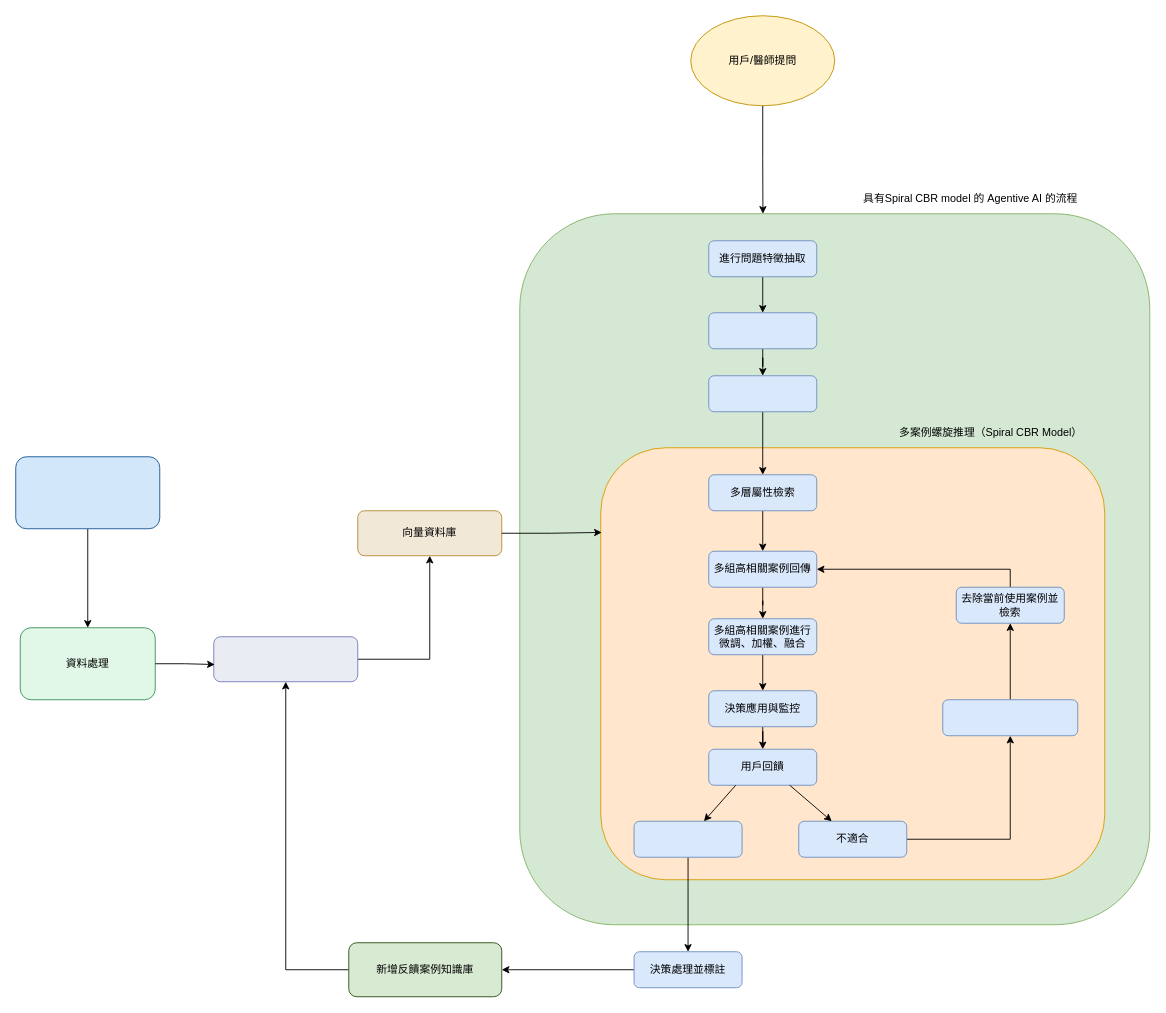
Some shapes in this 1166 by 1013 pixel diagram are drawn without their labels. The box of each missing label's shape, as (x1, y1, x2, y2) in pixels:
data: (15, 456, 160, 529)
Embedding: (213, 636, 358, 682)
任務拆解與參數設定: (708, 375, 817, 412)
再次進行spiral CBR model互動引導: (942, 699, 1078, 736)
特徵資訊檢查: (708, 312, 817, 349)
適合: (633, 820, 742, 857)
